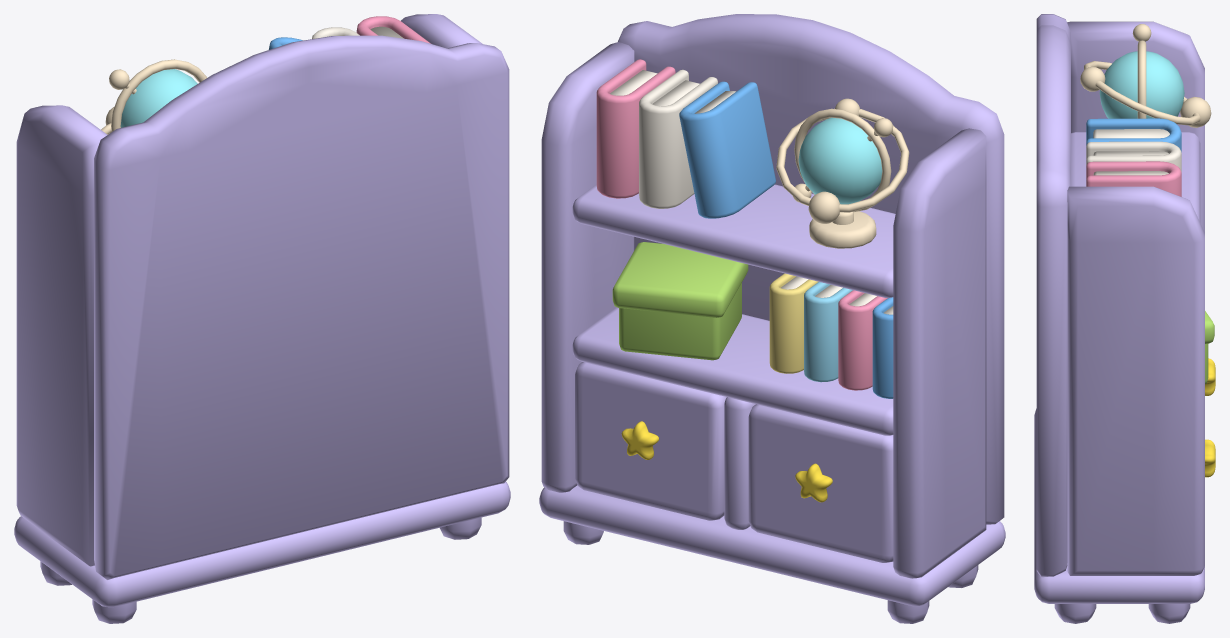
File: Bookshelf.fbx
The picture shows the model from 3 angles, left to right: view 1: azimuth 30°, elevation 25°; view 2: azimuth 150°, elevation 25°; view 3: azimuth 270°, elevation 25°; orthographic projection. The views are drawn at different scales.
Visible parts, largest first — view 1: BookshelfBack, BookshelfSide, BookshelfBottom, CelestialGlobe, BookshelfLeg, CelestialGlobeShaftRing, BookshelfBook01; view 2: BookshelfSide, BookshelfDrawer, BookshelfBack, BookshelfPanel, BookshelfBottom, BookshelfBox, BookshelfBook03, BookshelfBook02, BookshelfBook01, CelestialGlobe, BookshelfBook06, BookshelfBook04 (+6 smaller); view 3: BookshelfSide, BookshelfBack, BookshelfBottom, CelestialGlobe, BookshelfBook01, BookshelfPanel, BookshelfBook03, CelestialGlobeRing, BookshelfBook02, BookshelfLeg, BookshelfDrawer, CelestialGlobeShaftRing (+2 smaller).
Part boxes in pixels (x1,y1,x2,y2): BookshelfBack: [94, 35, 509, 579]; BookshelfSide: [16, 14, 482, 566]; BookshelfBottom: [14, 482, 510, 607]; CelestialGlobe: [120, 69, 197, 127]; BookshelfLeg: [40, 517, 481, 623]; CelestialGlobeShaftRing: [111, 59, 207, 131]; BookshelfBook01: [356, 16, 430, 43]; BookshelfSide: [541, 42, 986, 578]; BookshelfDrawer: [575, 362, 893, 562]; BookshelfBack: [618, 14, 1004, 524]; BookshelfPanel: [572, 184, 895, 529]; BookshelfBottom: [539, 485, 1005, 606]; BookshelfBox: [612, 242, 748, 360]; BookshelfBook03: [679, 81, 775, 218]; BookshelfBook02: [639, 69, 717, 208]; BookshelfBook01: [596, 59, 675, 198]; CelestialGlobe: [798, 117, 882, 204]; BookshelfBook06: [838, 290, 887, 390]; BookshelfBook04: [769, 273, 818, 373]; BookshelfSide: [1067, 21, 1204, 575]; BookshelfBack: [1036, 14, 1070, 577]; BookshelfBottom: [1034, 408, 1204, 603]; CelestialGlobe: [1099, 51, 1184, 118]; BookshelfBook01: [1086, 161, 1181, 196]; BookshelfPanel: [1071, 132, 1200, 222]; BookshelfBook03: [1086, 118, 1181, 152]; CelestialGlobeRing: [1080, 61, 1211, 127]; BookshelfBook02: [1086, 141, 1181, 171]; BookshelfLeg: [1054, 604, 1190, 623]; BookshelfDrawer: [1205, 358, 1215, 477]; CelestialGlobeShaftRing: [1137, 40, 1146, 118].
Bounding box in the file's own units: 1.71 × 2.16 × 0.7197.
